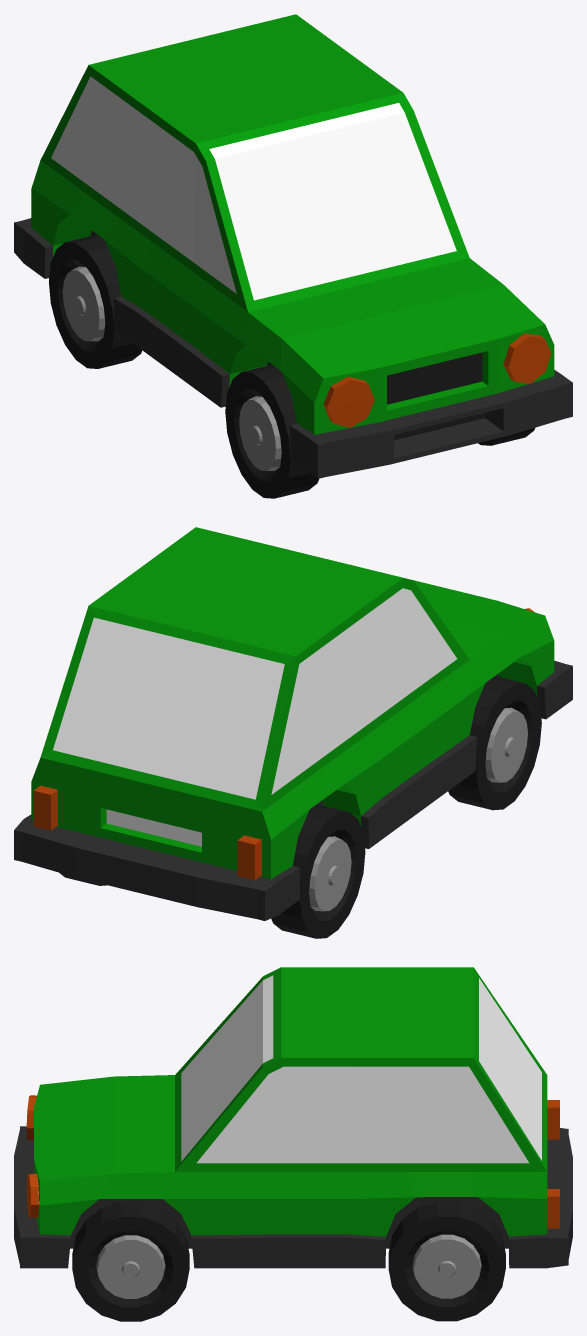
File: GreenCar.FBX
The picture shows the model from 3 angles, top to bottom: view 1: azimuth 30°, elevation 25°; view 2: azimuth 150°, elevation 25°; view 3: azimuth 270°, elevation 25°; orthographic projection. The views are drawn at different scales.
Parts seen in each view (by area): view 1: green, Wheels, RightBlinker, LeftBlinker; view 2: green, Wheels, RightBlinker, LeftBlinker; view 3: green, Wheels, LeftBlinker, RightBlinker.
Boxes of the visible parts, box(x1,y1,x2,y2) form: green: box(14, 14, 572, 478); Wheels: box(49, 234, 534, 498); RightBlinker: box(323, 376, 374, 427); LeftBlinker: box(503, 333, 551, 383); green: box(14, 527, 572, 920); Wheels: box(59, 676, 541, 938); RightBlinker: box(237, 608, 534, 880); LeftBlinker: box(33, 564, 351, 830); green: box(14, 967, 572, 1268); Wheels: box(72, 1201, 505, 1321); LeftBlinker: box(26, 1173, 559, 1228); RightBlinker: box(26, 1095, 559, 1140).
Bounding box in the file's own units: 161 × 170 × 338.
2 materials, 1 textured.
